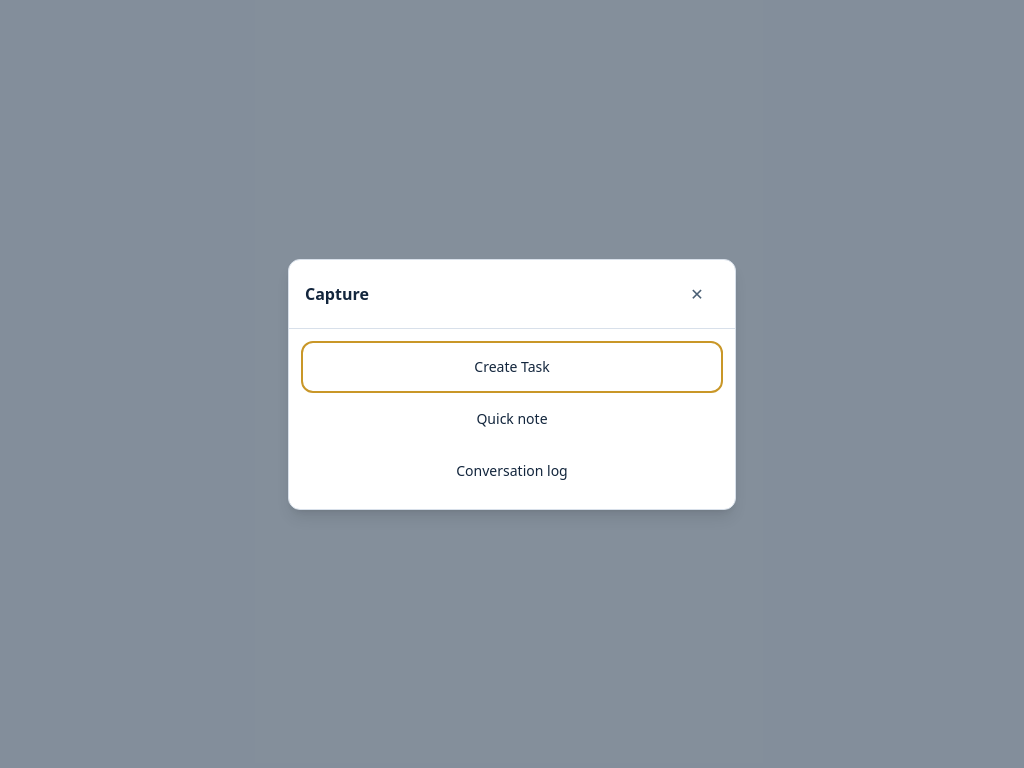
Test: an acknowledgement that is not a save › still says saved, and shows no receipt identifier, while diagnostics are off
Click the button with test id "capture-choice-quick_note" at (512, 418), box [305,396,719,440]
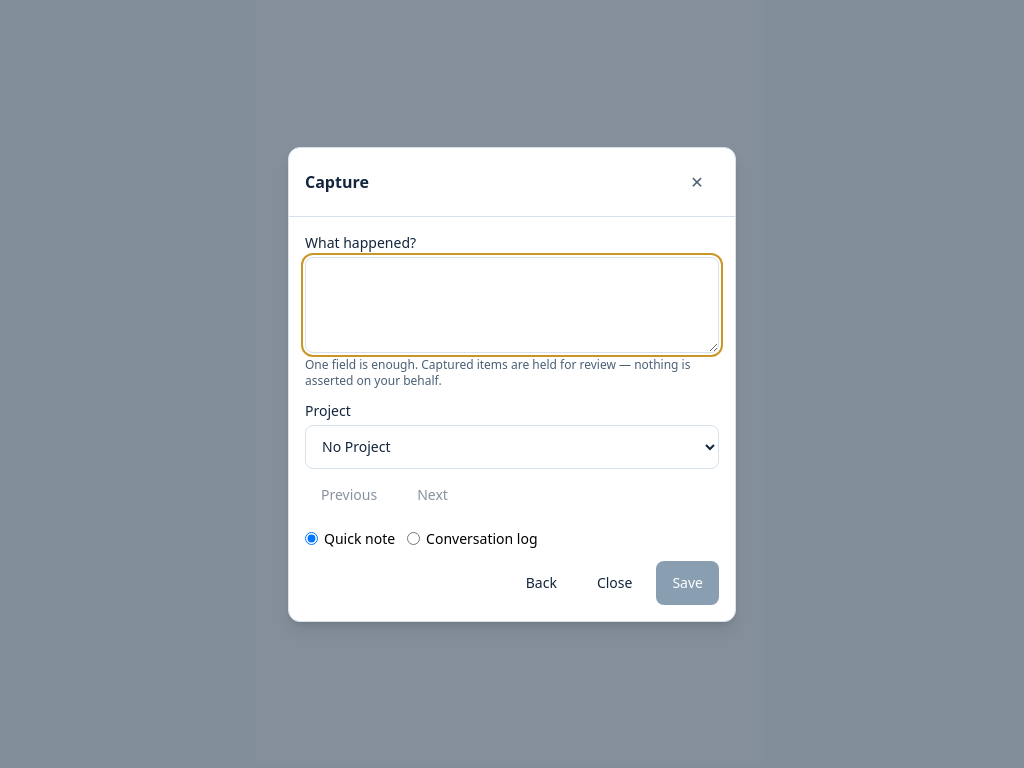
Type "synthetic note epsilon — flange tolerance review" into the text box with test id "capture-field" at (512, 304), box [305,256,719,352]
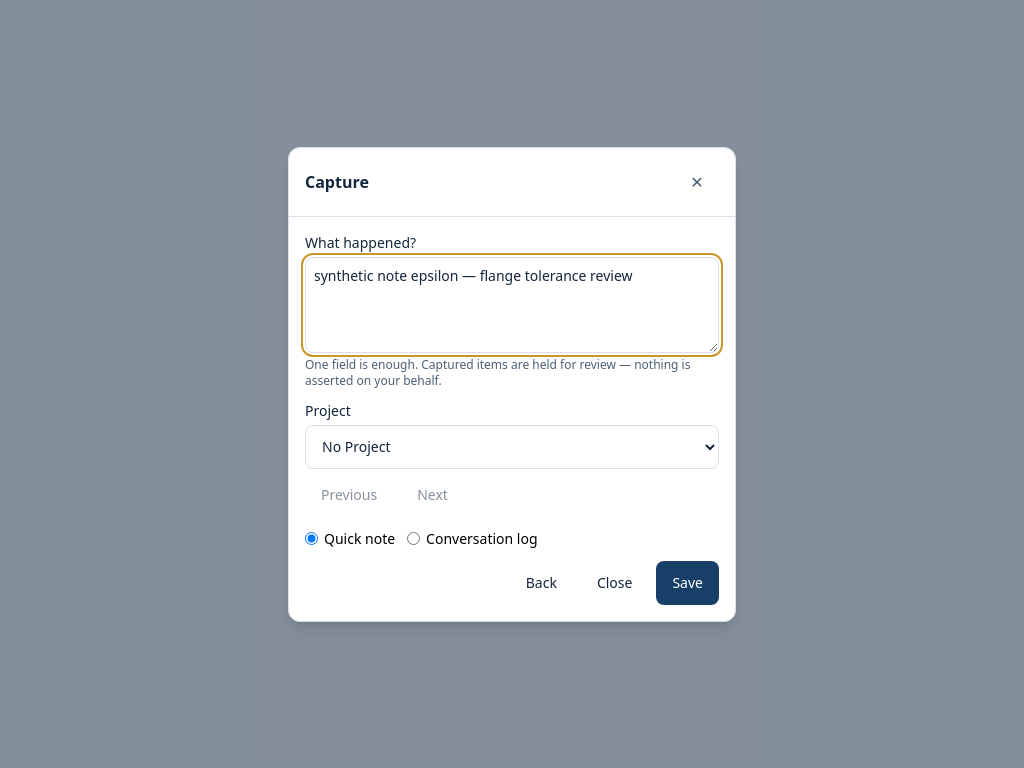
Click the button "Save" at (688, 582), box [656,560,719,604]
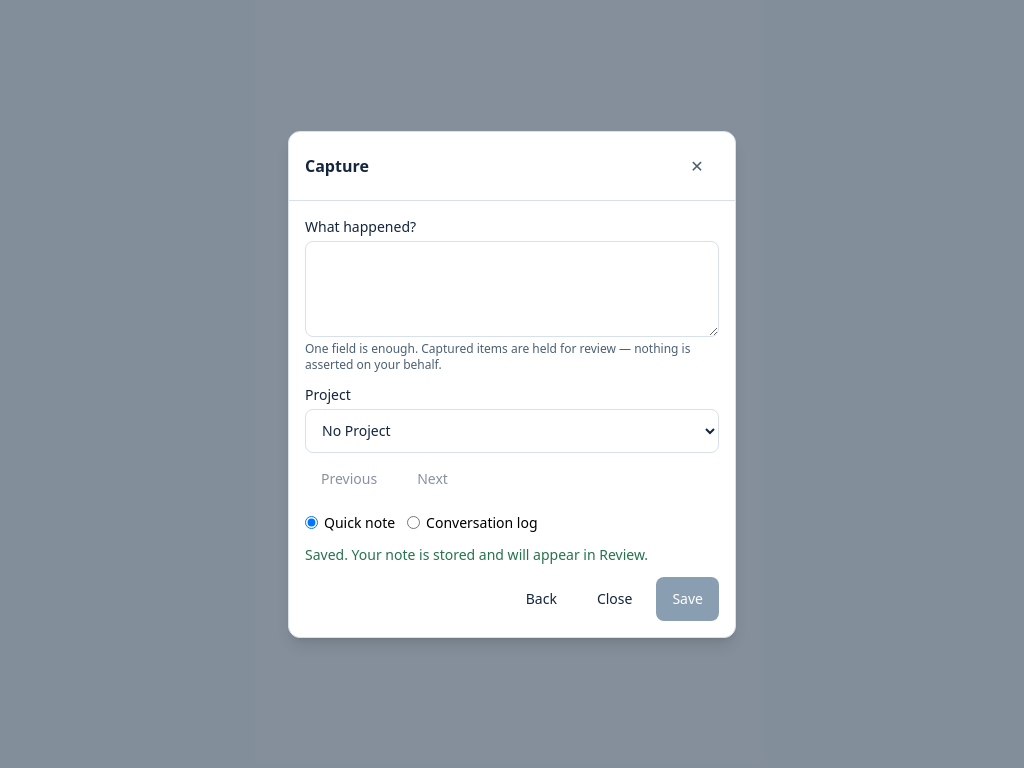
Expected: the message with test id "capture-durable" shows "Saved. Your note is stored", [305,544,648,564]
Expected: the text box with test id "capture-field" is empty, [305,240,719,336]
